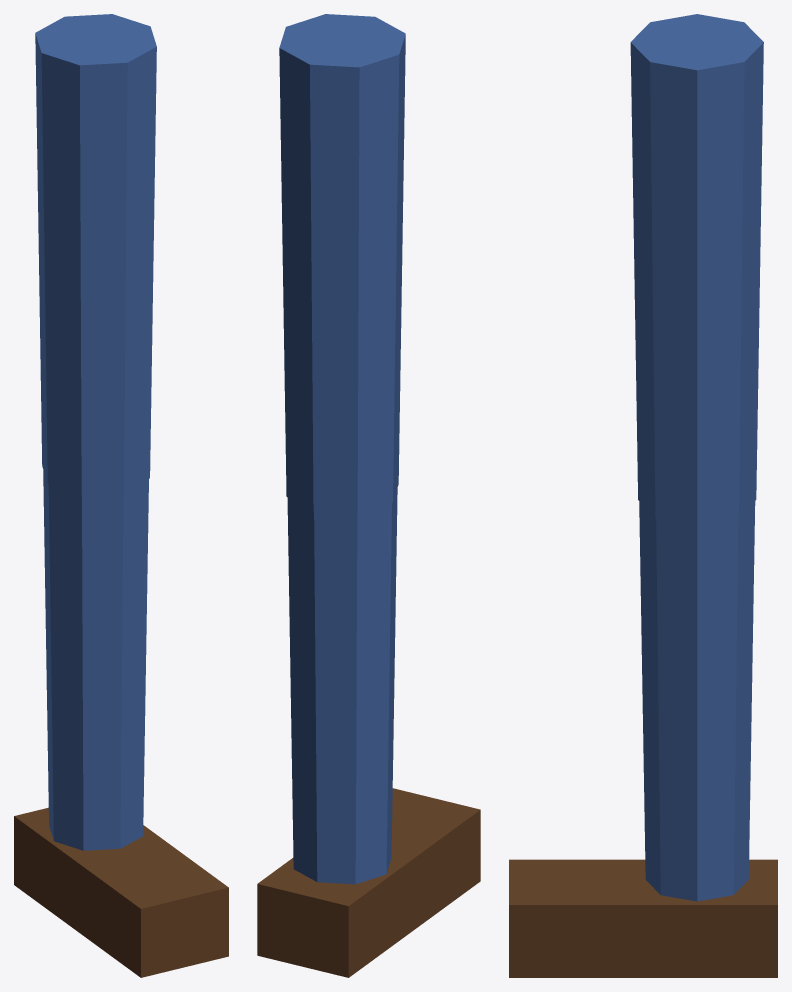
File: PersonHelper1LegL.obj
3 views of the same model, side by side, from view 1: azimuth 30°, elevation 25°; view 2: azimuth 150°, elevation 25°; view 3: azimuth 270°, elevation 25° (orthographic). The views are drawn at different scales.
Parts seen in each view (by area): view 1: PersonHelper1LegL; view 2: PersonHelper1LegL; view 3: PersonHelper1LegL.
Boxes of the visible parts, left/top/right/bottom form: PersonHelper1LegL: left=14, top=14, right=228, bottom=977; PersonHelper1LegL: left=257, top=14, right=480, bottom=977; PersonHelper1LegL: left=509, top=14, right=777, bottom=977.
Bounding box in the file's own units: 0.124 × 0.9375 × 0.25.
